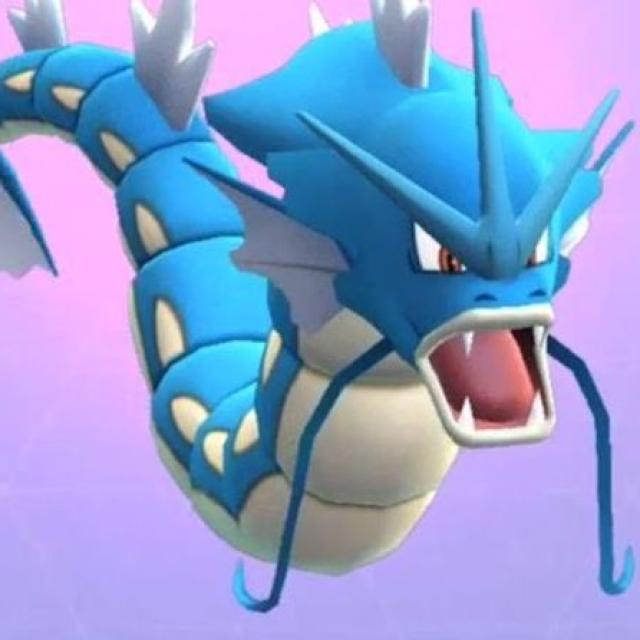Gyarados: (110, 11, 612, 576)
